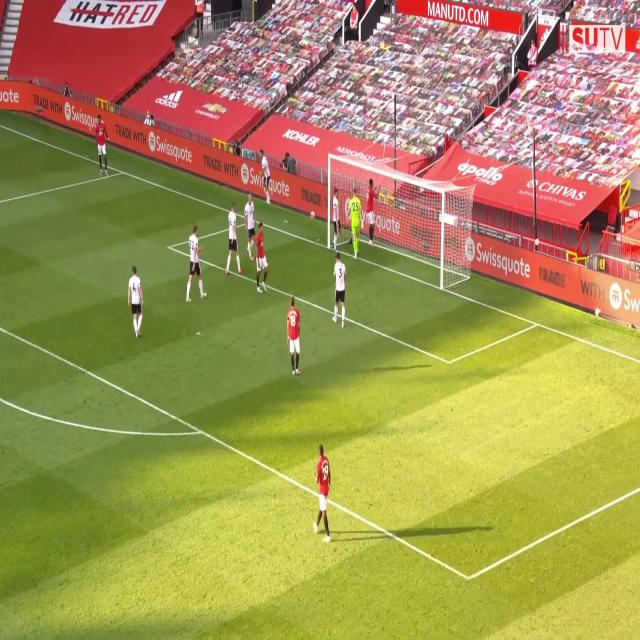GoalKeeper: (347, 194, 362, 252)
TEAM 1: (312, 445, 332, 540), (250, 221, 272, 296), (285, 300, 302, 378), (366, 176, 378, 247), (96, 118, 109, 175)
TEAM 2: (187, 226, 206, 300), (224, 209, 244, 279), (128, 268, 145, 339), (333, 254, 348, 332), (257, 148, 275, 206), (328, 188, 342, 255), (243, 198, 255, 234)
